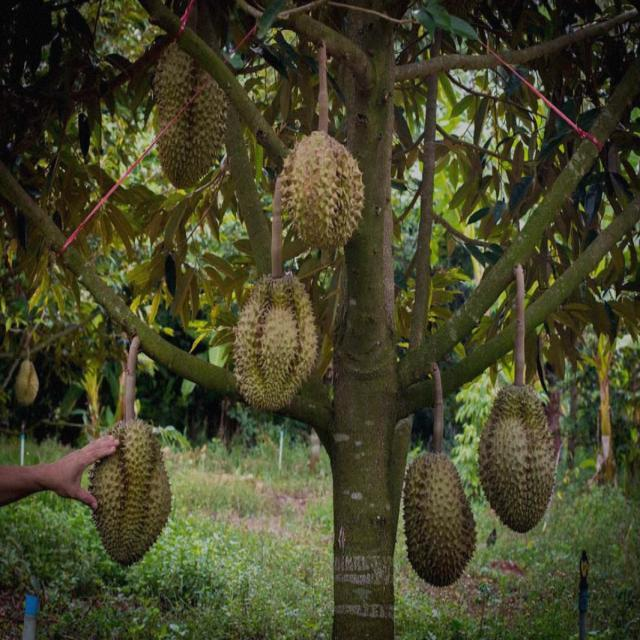mature: (93, 414, 174, 569), (477, 386, 557, 536), (233, 272, 314, 415), (280, 132, 368, 251), (402, 454, 476, 589)
